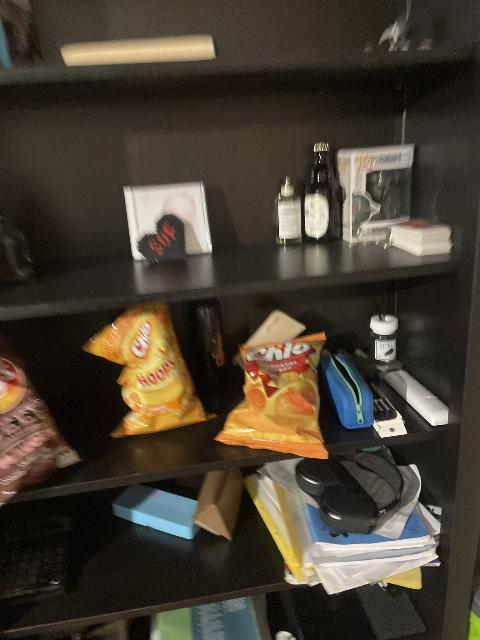Chio Cascaval 125g: (212, 330, 328, 460)
Chio Hula Hoops Cheese 70g: (81, 303, 216, 438)
Lays Beef Grilled Ribs 125g: (0, 331, 84, 507)
